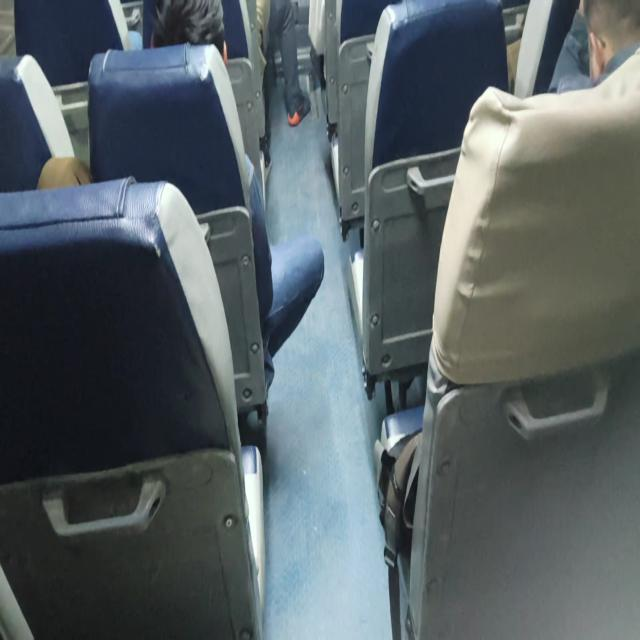person: (556, 0, 640, 85), (155, 0, 226, 65)
